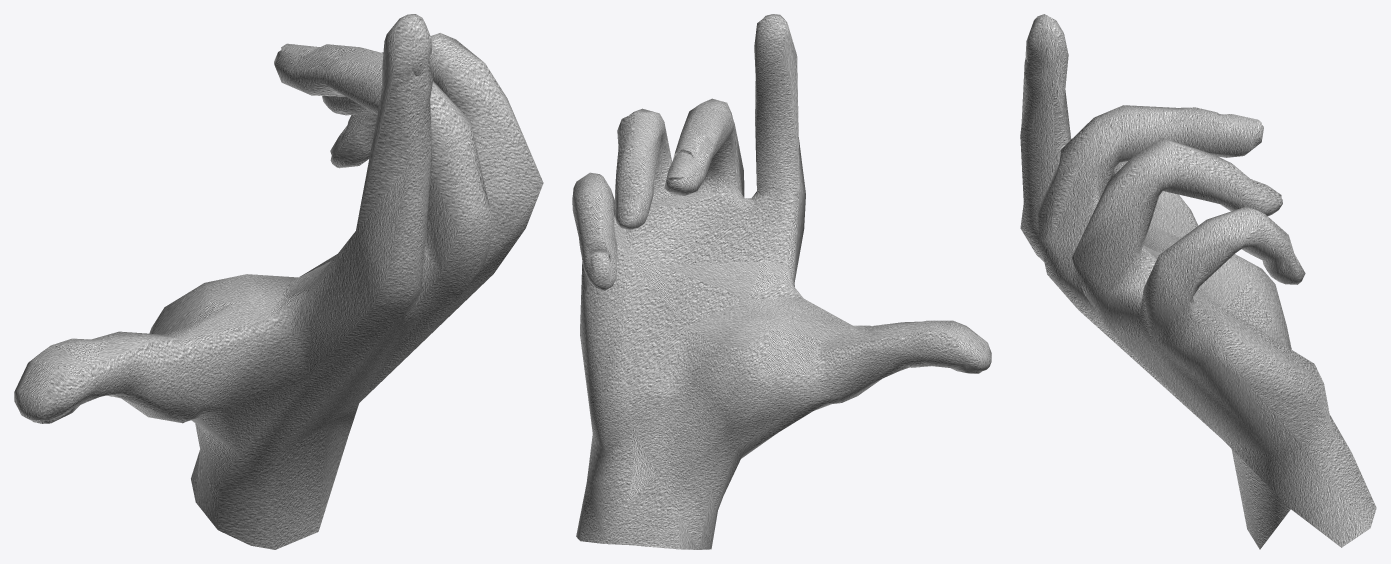
Rendered from hand.FBX.
3 renders of one model, left to right at view 1: azimuth 30°, elevation 25°; view 2: azimuth 150°, elevation 25°; view 3: azimuth 270°, elevation 25°, orthographic. The views are drawn at different scales.
Parts seen in each view (by area): view 1: Hand; view 2: Hand; view 3: Hand.
Part boxes in pixels (x1,y1,x2,y2): Hand: (14,14,543,549); Hand: (572,14,991,549); Hand: (1020,14,1376,549).
Size of the model in its own units: 17.93 by 20.41 by 12.71.
1 material, 1 textured.
